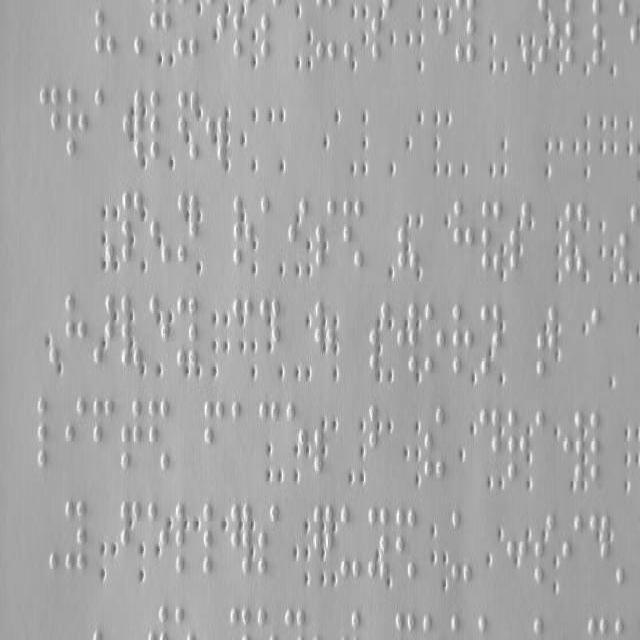braiile: (64, 83, 90, 161), (36, 396, 62, 472), (64, 496, 88, 576), (589, 408, 613, 486), (452, 197, 476, 274), (423, 299, 445, 381), (148, 89, 172, 164), (65, 291, 87, 371), (450, 509, 472, 589), (451, 302, 474, 378), (92, 396, 115, 472), (39, 83, 61, 161), (339, 503, 361, 581), (618, 202, 640, 278), (176, 293, 198, 369), (64, 396, 86, 472), (202, 502, 224, 578), (258, 502, 280, 578), (230, 398, 252, 473), (590, 304, 612, 376), (478, 404, 500, 476), (259, 193, 281, 264), (120, 398, 142, 469), (203, 400, 225, 471), (94, 85, 115, 159), (561, 514, 583, 584)
